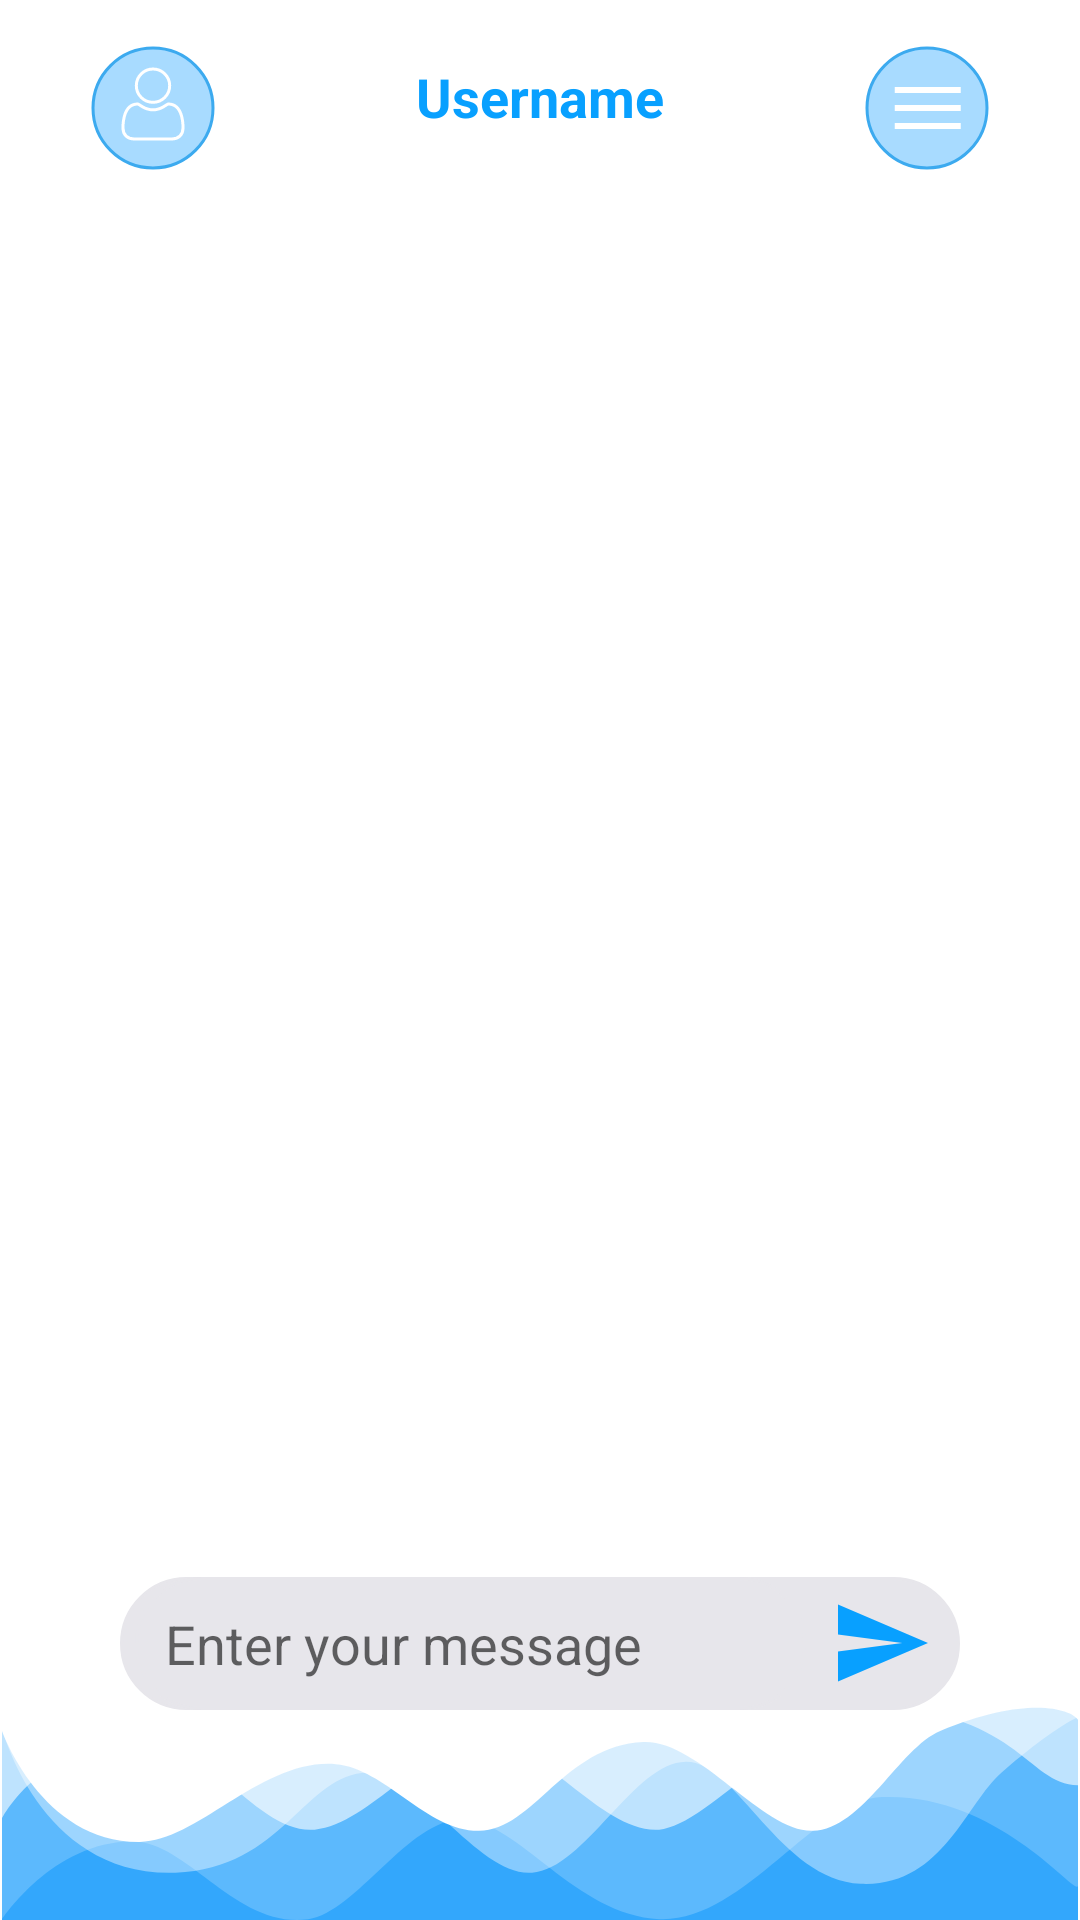

Where to tap for icons on this 1080px×1920px app screen, as [x,y]:
gotoprofile: [153,108]
gotosetting: [927,108]
sendbutton: [883,1643]
